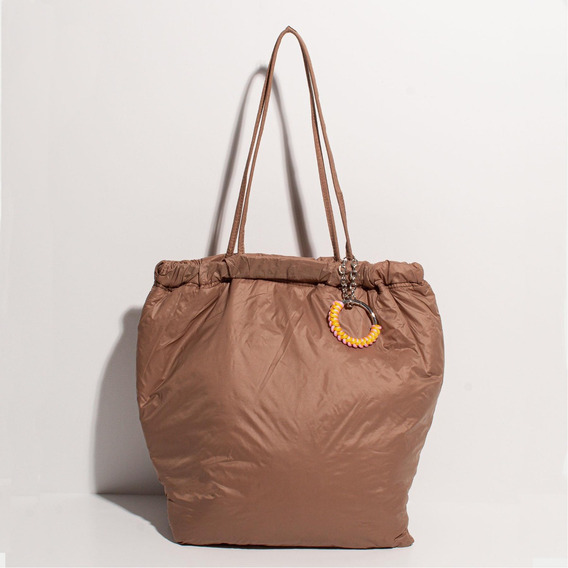cartera: (133, 25, 446, 551)
